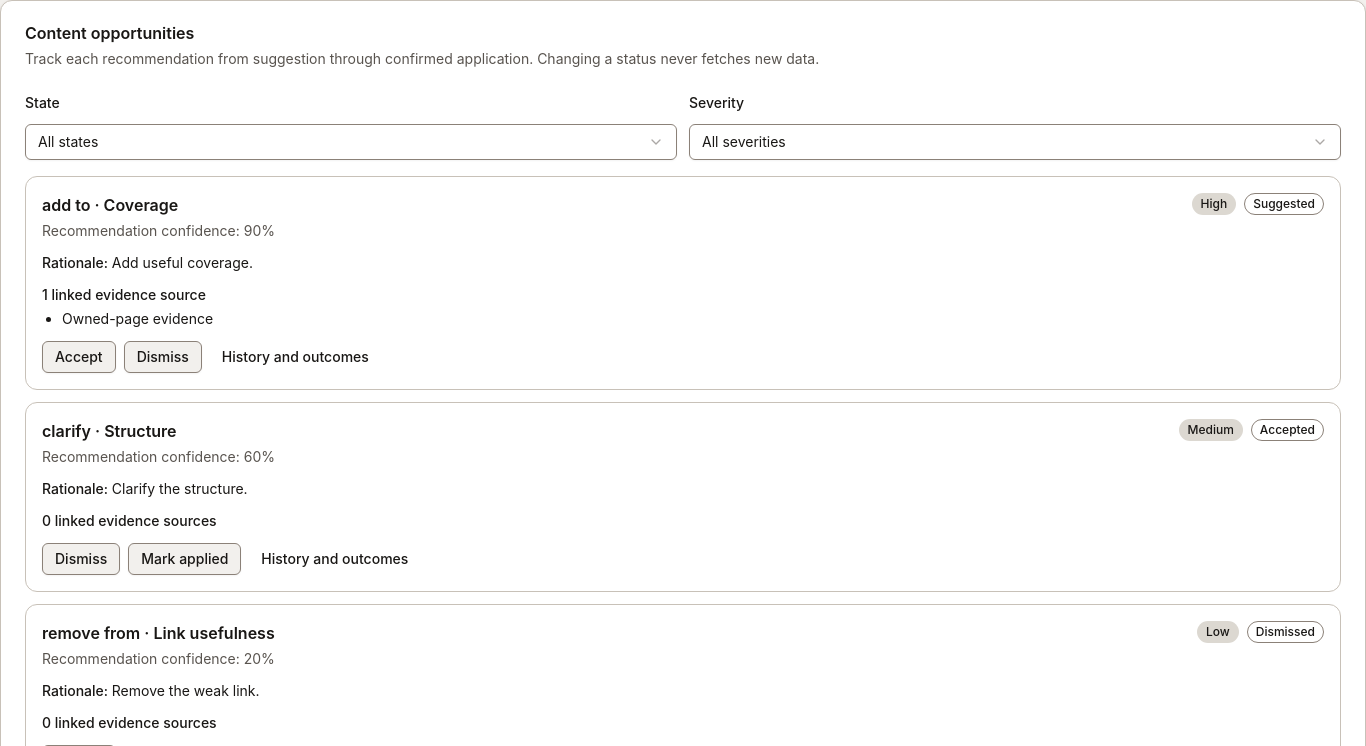
Test: RecommendationWorkflow › requires an explanatory note when the authorized hash is unchanged
Click the button "Mark applied".
click(185, 559)  # box [128,543,241,575]
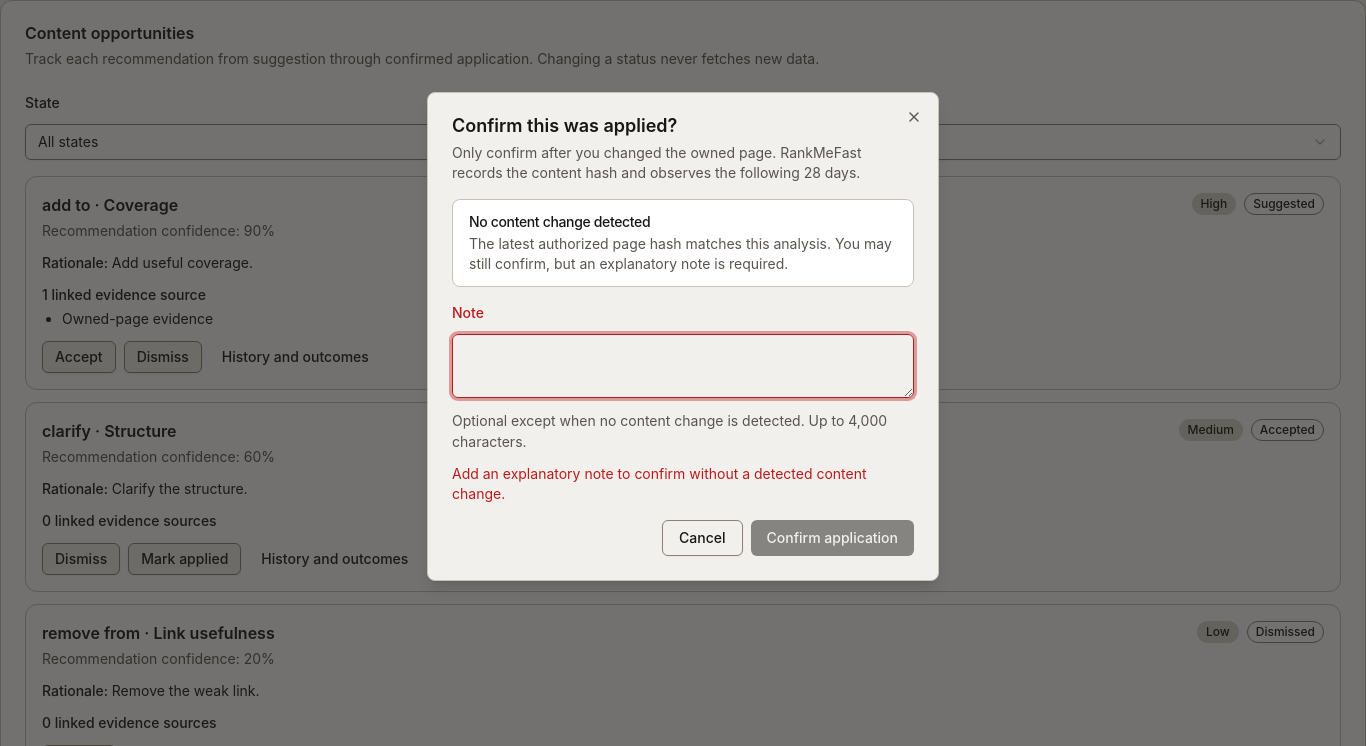
Expected: the text "No content change detected" is shown, [469,213,650,230]
Expected: the button "Confirm application" is disabled, [751,520,914,556]
Expected: the text "explanatory note" is shown 2 times, [469,234,897,274]; [452,464,914,504]
Type "Published through the CMS." into the text box labelled "Note".
click(683, 366); type("Published through the CMS.")  # box [452,334,914,398]
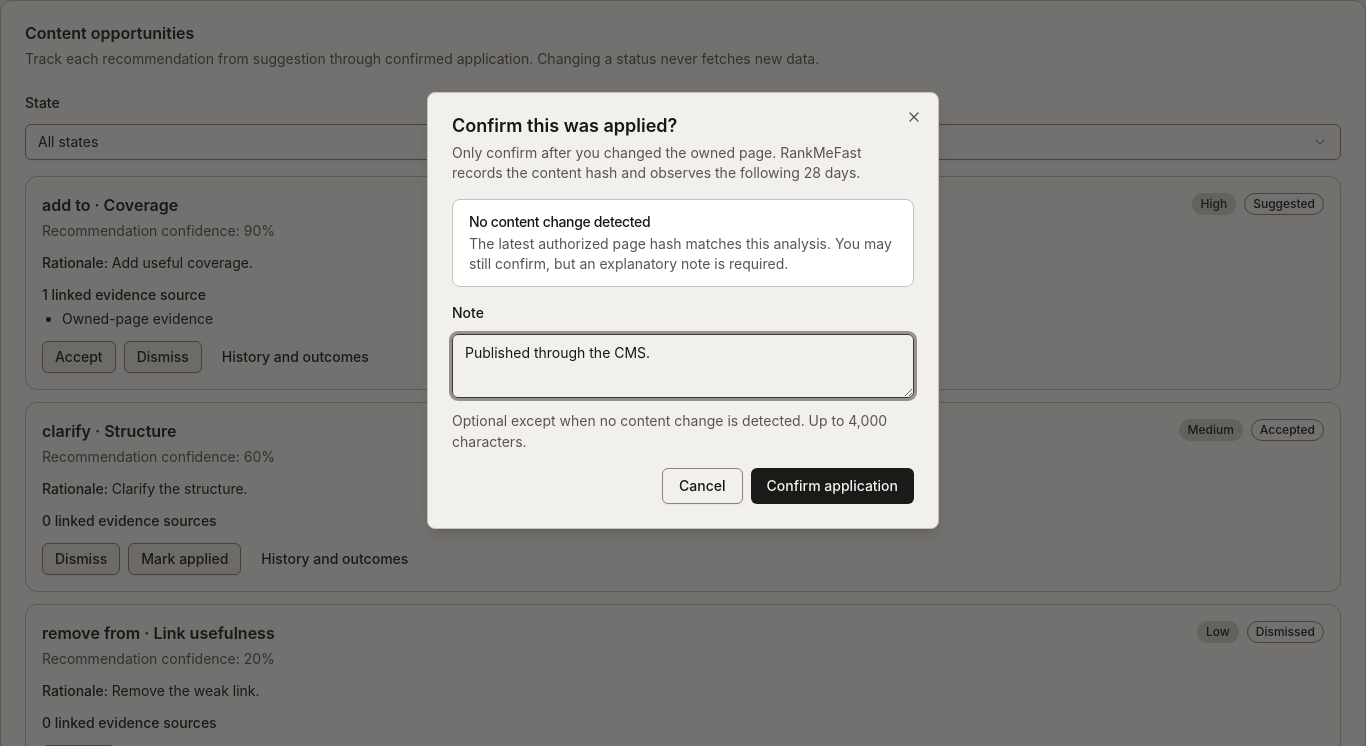
Expected: the button "Confirm application" is enabled, [751,468,914,504]
